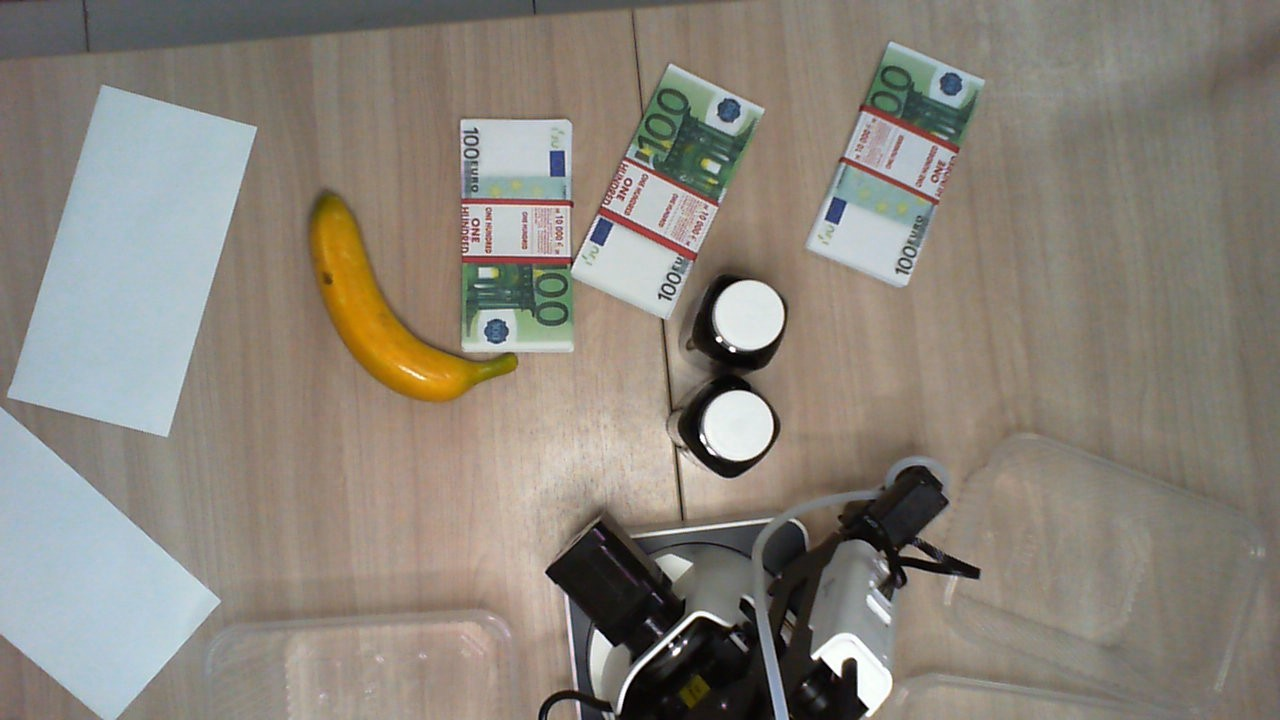banana: (307, 190, 519, 403)
bottle: (682, 374, 781, 480), (700, 275, 789, 368)
convert: (6, 83, 258, 438), (1, 407, 222, 718)
money: (573, 62, 766, 318), (805, 40, 986, 289), (460, 118, 576, 351)
